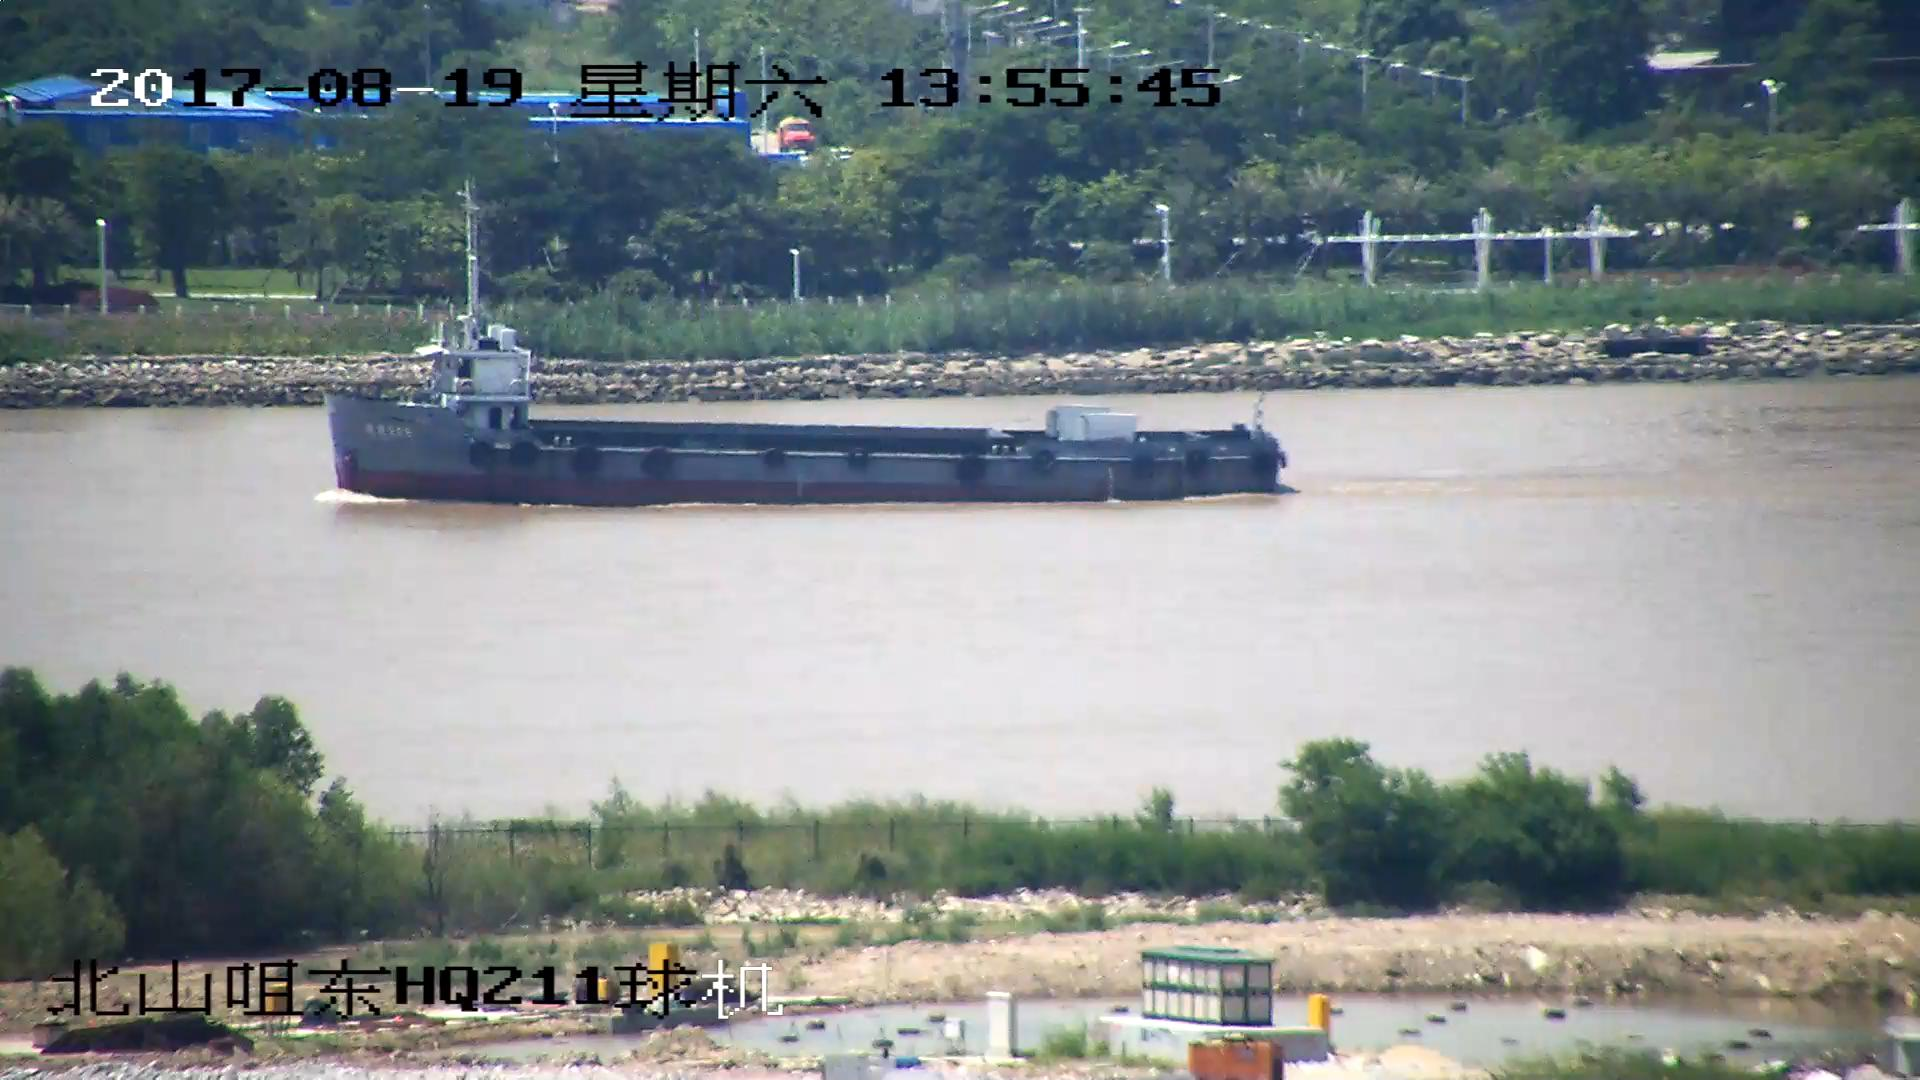general cargo ship: (325, 317, 1279, 503)
